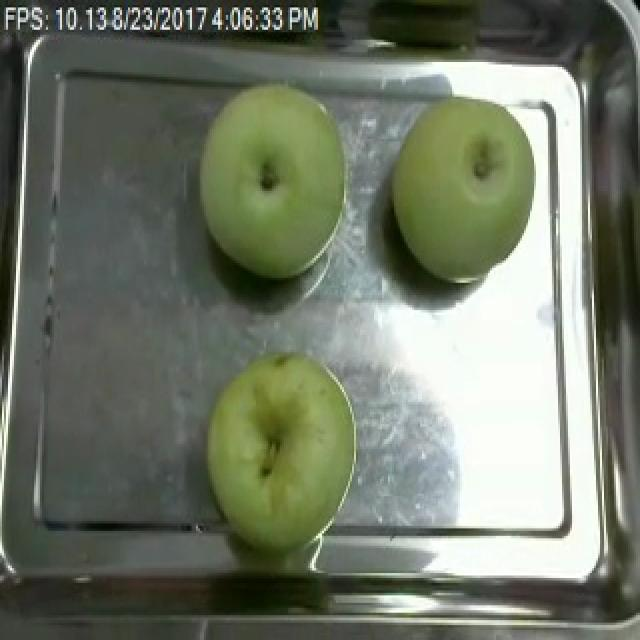50-_ripeness: (182, 338, 375, 580), (192, 53, 352, 298), (390, 78, 545, 301)
